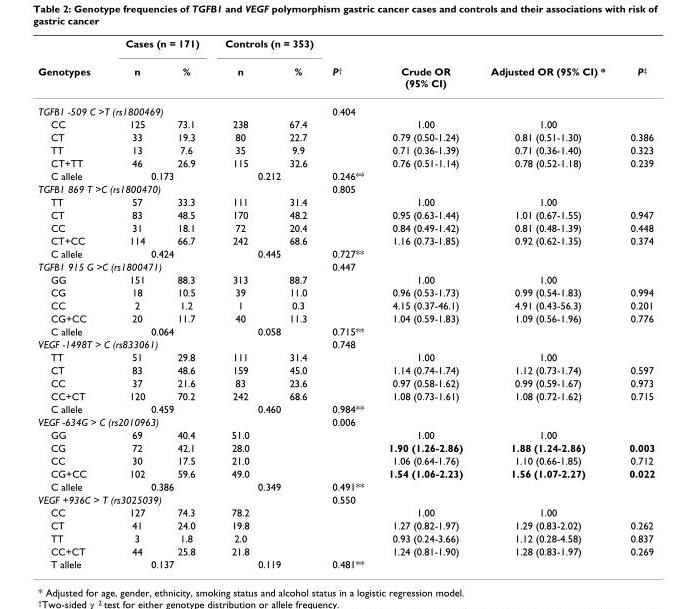table: (37, 36, 654, 569)
table column: (476, 36, 616, 569), (375, 36, 476, 569), (37, 36, 107, 569), (211, 36, 268, 569), (268, 36, 322, 569), (107, 36, 160, 569), (322, 36, 375, 569), (160, 36, 211, 569), (616, 36, 654, 569)
table column header: (37, 36, 654, 96)
table row: (37, 57, 654, 96), (37, 36, 654, 57), (37, 96, 654, 117), (37, 117, 654, 130), (37, 130, 654, 143), (37, 143, 654, 156), (37, 156, 654, 169), (37, 169, 654, 182), (37, 182, 654, 195), (37, 195, 654, 208), (37, 208, 654, 221), (37, 233, 654, 246), (37, 246, 654, 259), (37, 259, 654, 272), (37, 272, 654, 285), (37, 285, 654, 298), (37, 298, 654, 311), (37, 311, 654, 324), (37, 324, 654, 337), (37, 337, 654, 350), (37, 350, 654, 363), (37, 363, 654, 376), (37, 376, 654, 389), (37, 389, 654, 402), (37, 402, 654, 415), (37, 415, 654, 428), (37, 440, 654, 453), (37, 453, 654, 466), (37, 466, 654, 479), (37, 479, 654, 492), (37, 492, 654, 505), (37, 505, 654, 518), (37, 518, 654, 531), (37, 531, 654, 544), (37, 544, 654, 557), (37, 221, 654, 233), (37, 428, 654, 440), (37, 557, 654, 569)
table spanning cell: (476, 36, 616, 96), (375, 36, 476, 96), (37, 36, 107, 96), (37, 96, 211, 117), (322, 36, 375, 96), (211, 36, 322, 57), (616, 36, 654, 96), (37, 182, 211, 195), (37, 259, 211, 272), (37, 337, 211, 350), (37, 415, 211, 428), (37, 492, 211, 505), (107, 36, 211, 57), (211, 169, 322, 182), (211, 246, 322, 259), (211, 324, 322, 337), (211, 402, 322, 415), (211, 479, 322, 492), (107, 169, 211, 182), (107, 246, 211, 259), (107, 324, 211, 337), (107, 402, 211, 415), (107, 479, 211, 492), (211, 557, 322, 569), (107, 557, 211, 569)
